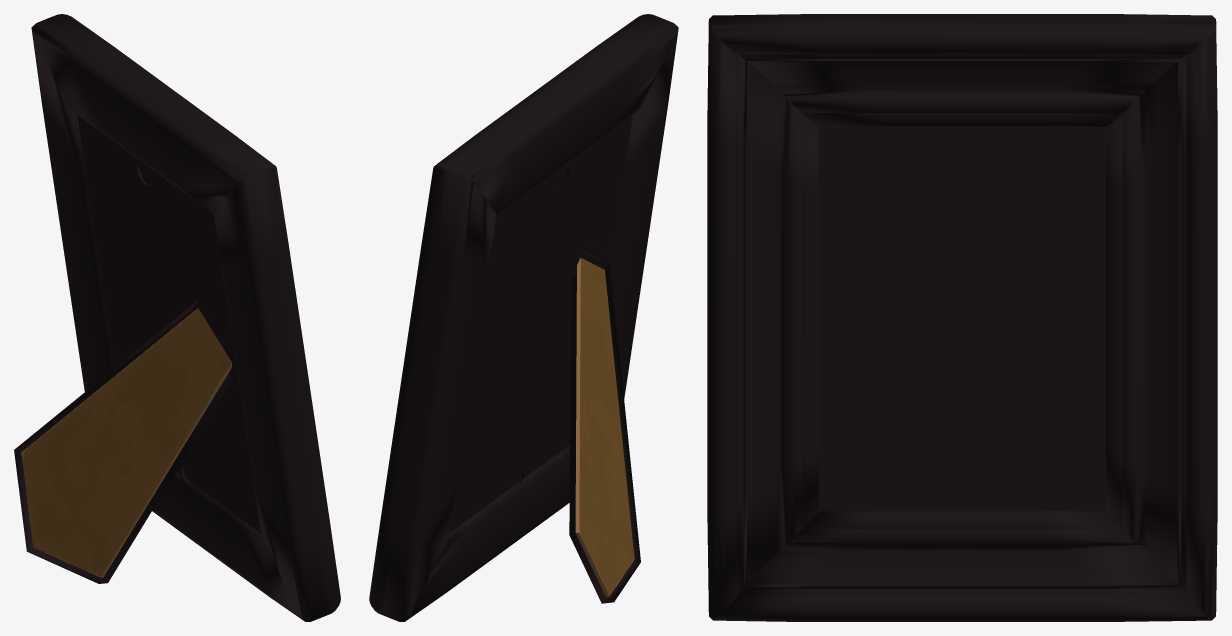
Rendered from SM_Int_PhotoFrameB.fbx.
3 renders of one model, left to right at view 1: azimuth 30°, elevation 25°; view 2: azimuth 150°, elevation 25°; view 3: azimuth 270°, elevation 25°, orthographic. The views are drawn at different scales.
Parts seen in each view (by area): view 1: SM_Int_PhotoFrameB; view 2: SM_Int_PhotoFrameB; view 3: SM_Int_PhotoFrameB.
Boxes of the visible parts, x1,y1,x2,y2 form: SM_Int_PhotoFrameB: (14,14,340,621); SM_Int_PhotoFrameB: (369,14,678,621); SM_Int_PhotoFrameB: (707,14,1217,621).
Size of the model in its own units: 0.1098 by 0.2744 by 0.2251.
